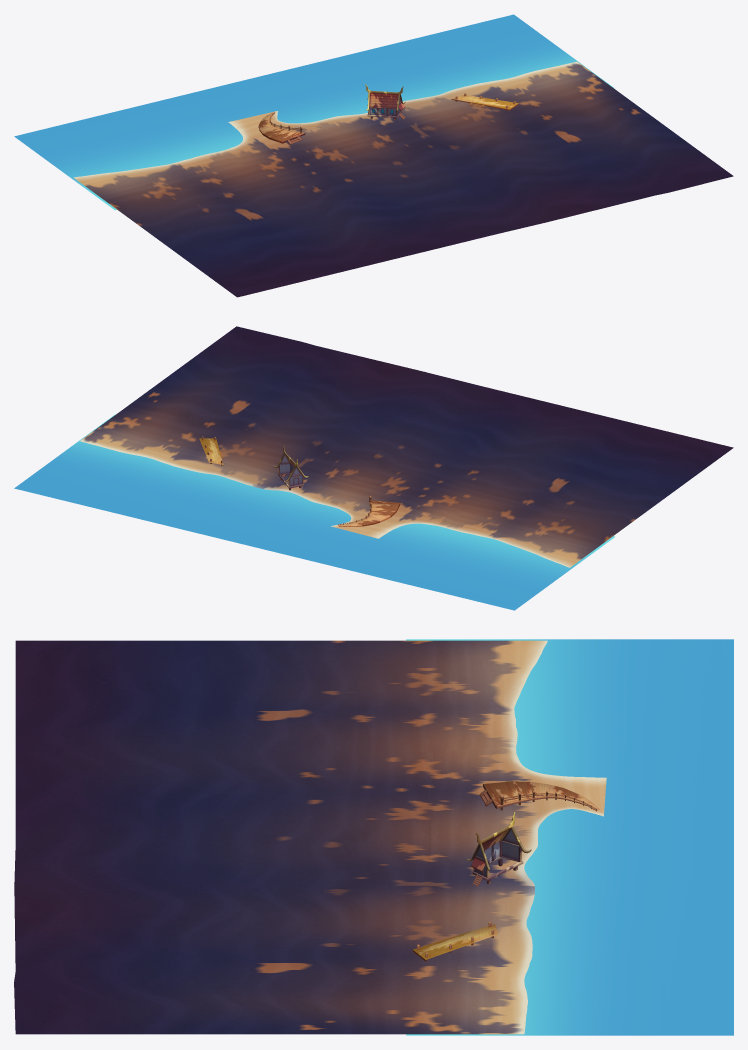
The model's file is dixing.FBX.
The picture shows the model from 3 angles, top to bottom: view 1: azimuth 30°, elevation 25°; view 2: azimuth 150°, elevation 25°; view 3: azimuth 270°, elevation 25°; orthographic projection. The views are drawn at different scales.
Visible parts, largest first — view 1: dimian, haimian, fangzi, muqiao, matou; view 2: dimian, haimian, muqiao, fangzi; view 3: dimian, haimian, fangzi, muqiao, matou.
Boxes of the visible parts, x1,y1,x2,y2 form: dimian: (74, 61, 733, 297); haimian: (14, 14, 614, 210); fangzi: (365, 84, 405, 120); muqiao: (258, 112, 305, 144); matou: (451, 93, 518, 110); dimian: (80, 326, 733, 567); haimian: (14, 414, 614, 610); muqiao: (338, 496, 400, 526); fangzi: (273, 444, 308, 490); dimian: (14, 640, 606, 1034); haimian: (406, 639, 733, 1035); fangzi: (467, 812, 531, 886); muqiao: (479, 781, 599, 811); matou: (412, 921, 498, 961).
Bounding box in the file's own units: 8954 × 561 × 6877.
